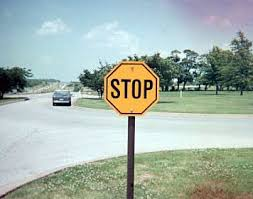Stop: (103, 63, 160, 117)
